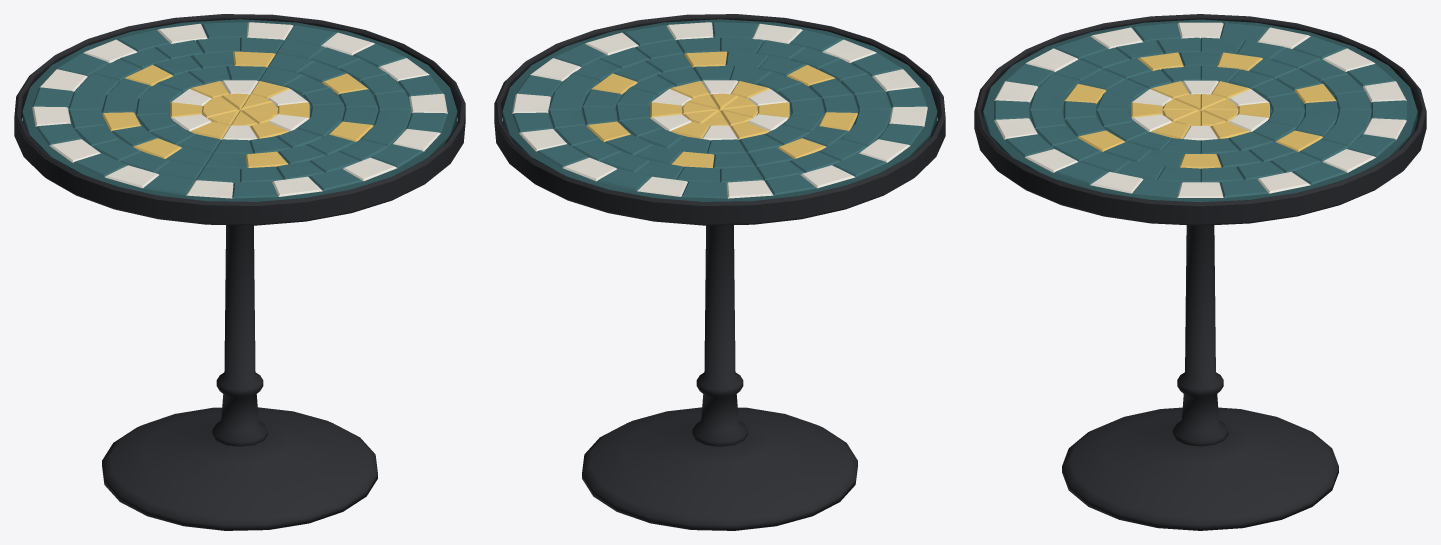
File: patioTableRound.glb
The picture shows the model from 3 angles, left to right: view 1: azimuth 30°, elevation 25°; view 2: azimuth 150°, elevation 25°; view 3: azimuth 270°, elevation 25°; orthographic projection.
Parts seen in each view (by area): view 1: patioTableRound; view 2: patioTableRound; view 3: patioTableRound.
Part boxes in pixels (x1,y1,x2,y2): patioTableRound: [14, 14, 465, 530]; patioTableRound: [494, 14, 945, 530]; patioTableRound: [974, 14, 1426, 530].
Size of the model in its own units: 0.816 by 0.725 by 0.816.
